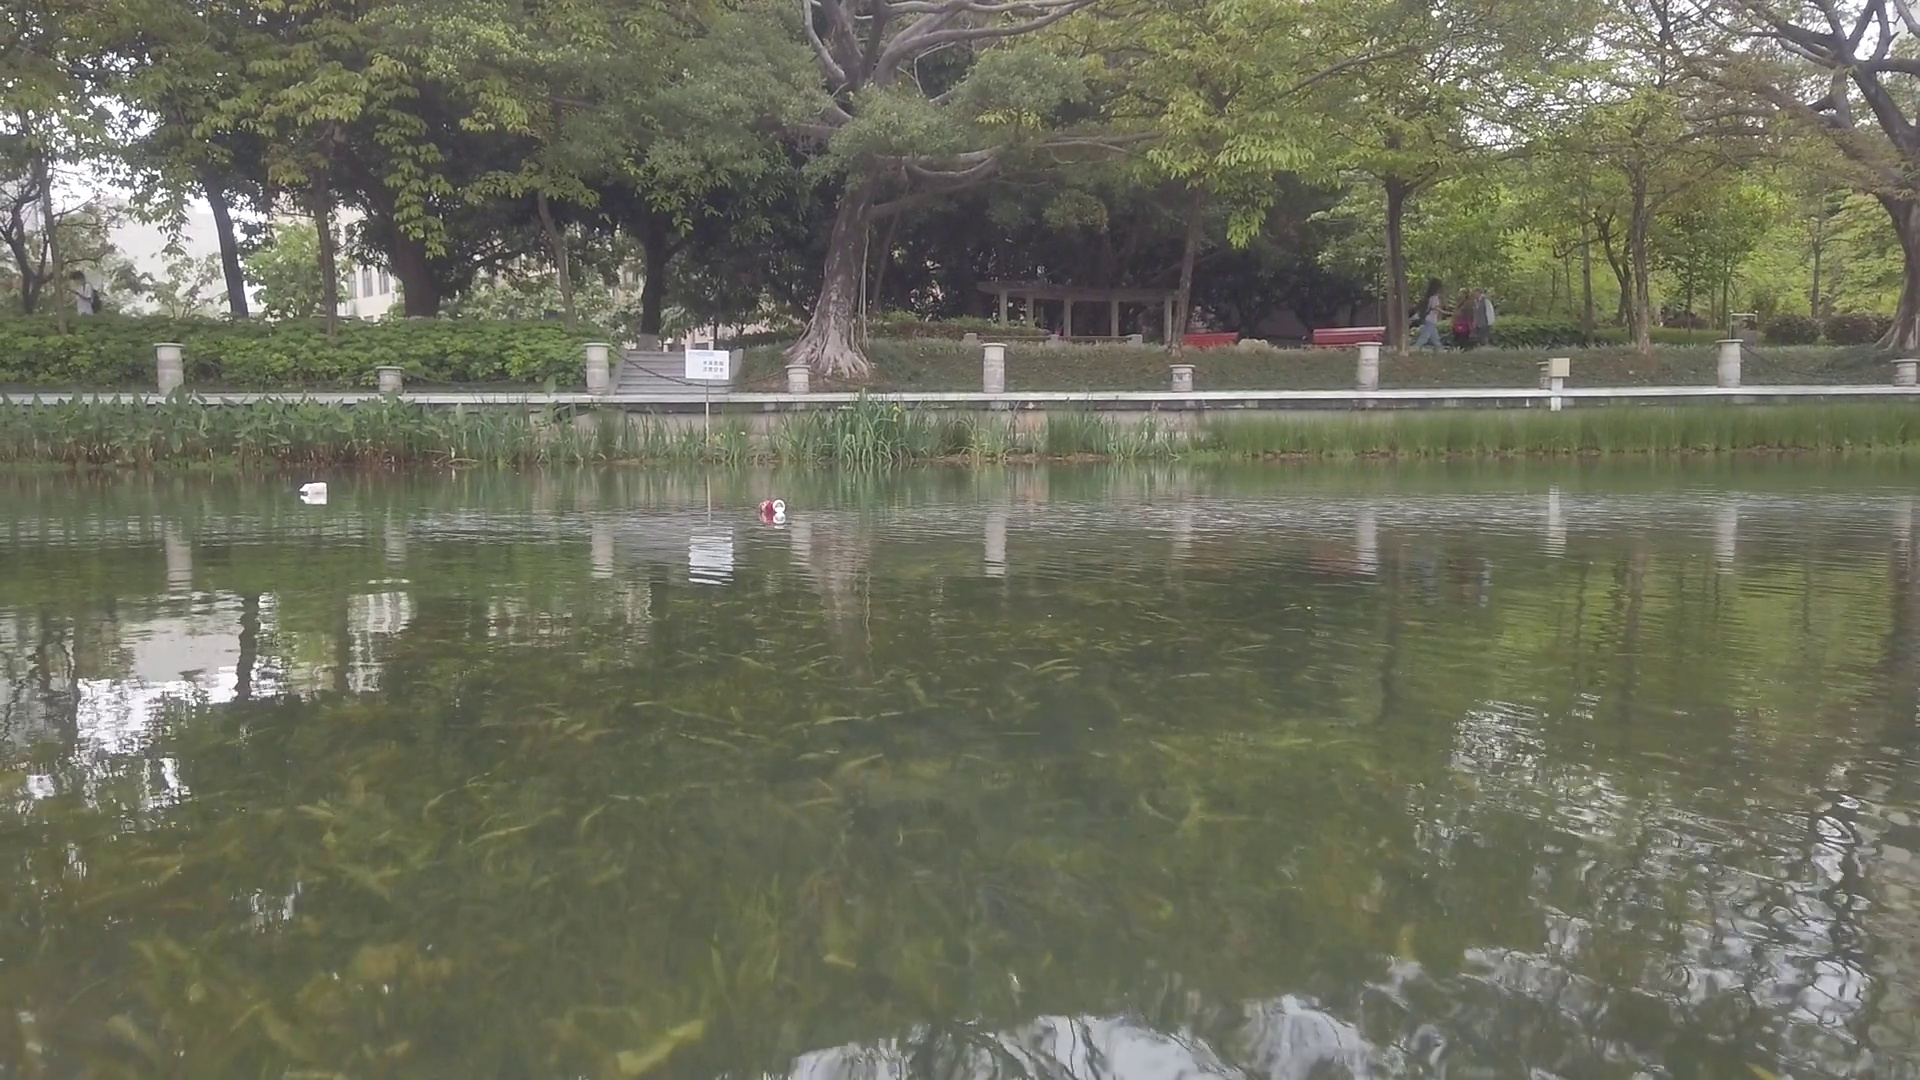bottle: (762, 500, 789, 512)
carton: (298, 483, 328, 496)
